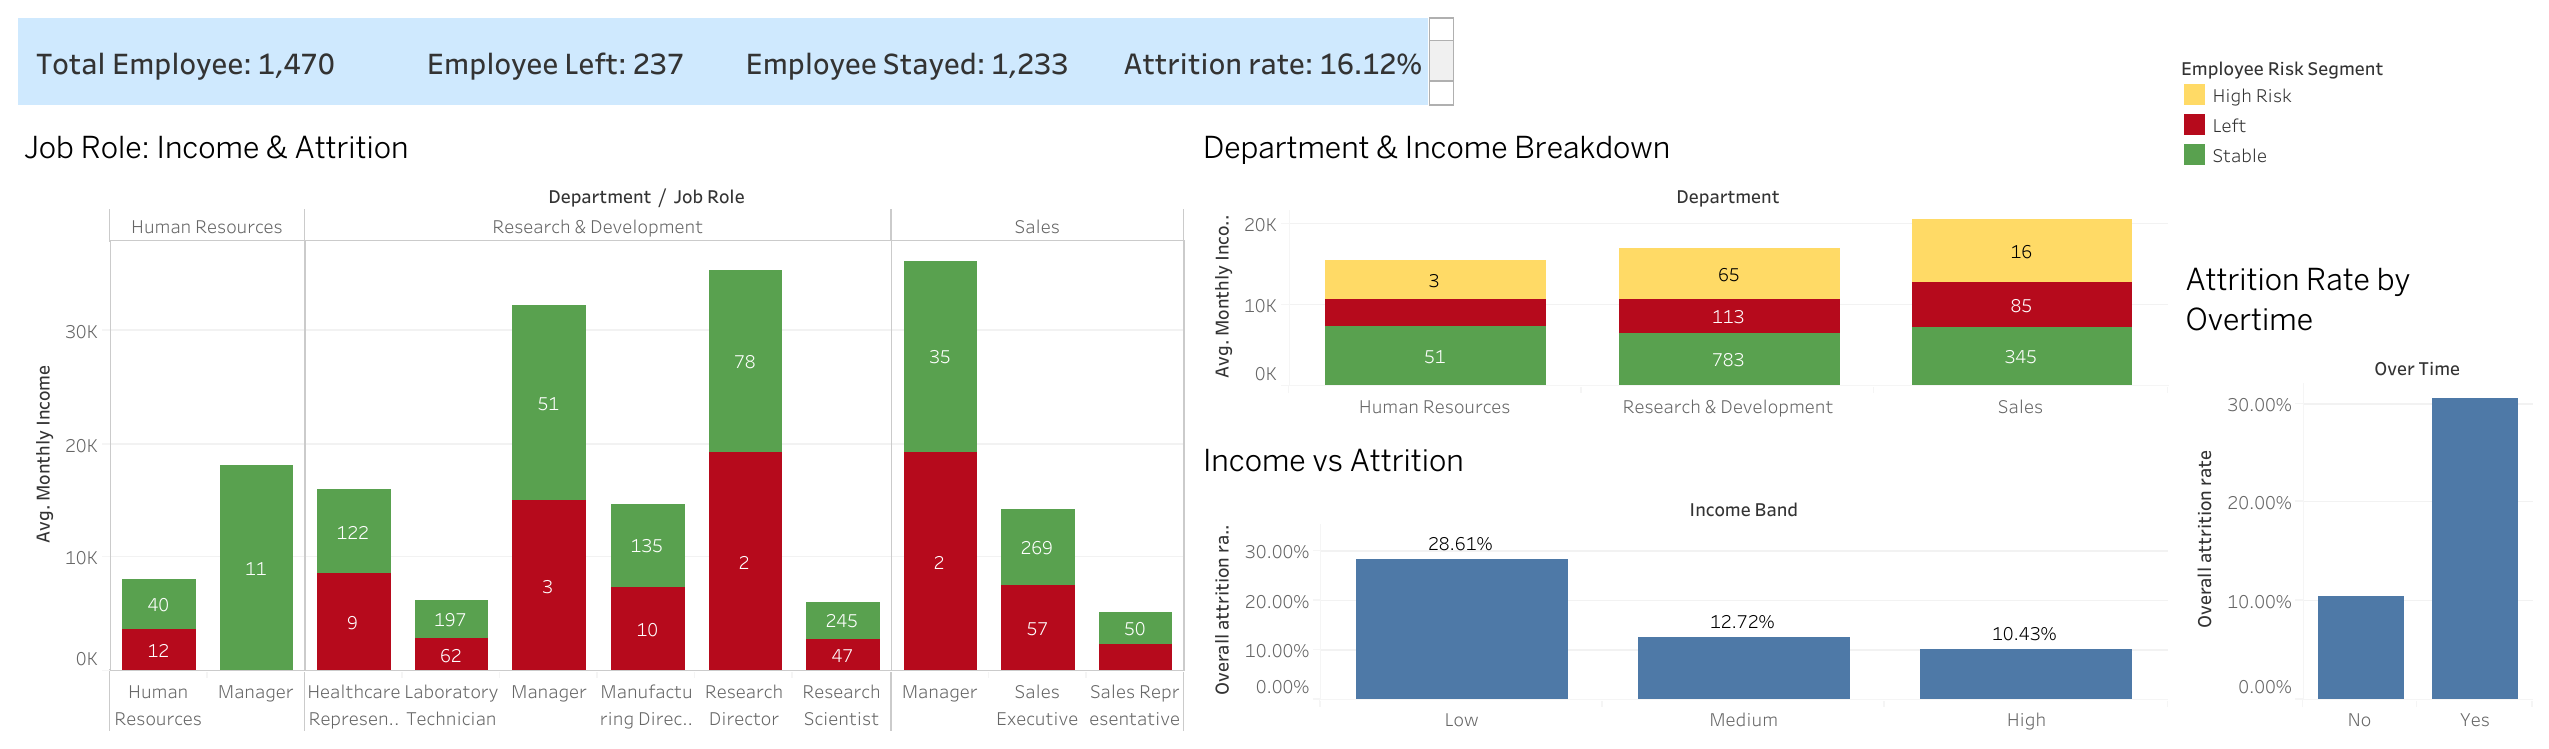

The page's visual inventory and layout, read from the dashboard file:
{"tool":"tableau","page":{"name":"Dashboard 1","canvas":[1000,1000],"units":"permille","ordinal":0},"visuals":[{"type":"worksheet","title":"Sheet 1","mark":"Automatic","box":[4.7,9.9,847.6,134.2]},{"type":"legend","title":"Sheet 3","param":"[federated.12w6y7904hxqo2111rh3x1llxkud].[usr:Calculation_0309833972924423:qk]","box":[852.4,9.9,142.9,33.5]},{"type":"legend","title":"Sheet 2","param":"[federated.12w6y7904hxqo2111rh3x1llxkud].[none:Calculation_0309833973989384:nk]","box":[852.4,43.4,142.9,135.1]},{"type":"worksheet","title":"Sheet 4","mark":"Automatic","rows":["MonthlyIncome"],"cols":["Department","JobRole"],"box":[4.7,144.1,462.3,846]},{"type":"worksheet","title":"Sheet 2","mark":"Bar","rows":["MonthlyIncome"],"cols":["Department"],"box":[467.1,144.1,385.3,423.4]},{"type":"worksheet","title":"Sheet 3","mark":"Automatic","rows":["Calculation_0309833972924423"],"cols":["OverTime"],"box":[852.4,320.9,142.9,669.2]},{"type":"worksheet","title":"Sheet 5","mark":"Automatic","rows":["Calculation_0309833972924423"],"cols":["Calculation_0951124644204544"],"box":[467.1,567.5,385.3,422.6]}]}

Visuals, with their boxes on the dashboard's canvas, which has no fixed pixel size, in thousandths of its width and height (x1, y1, x2, y2). These are canvas units, not pixel positions in the 2549x749 screenshot, which may show the page scaled, cropped or inside an application window:
"Sheet 1" worksheet: [x1=5, y1=10, x2=852, y2=144]
"Sheet 3" legend: [x1=852, y1=10, x2=995, y2=43]
"Sheet 2" legend: [x1=852, y1=43, x2=995, y2=178]
"Sheet 4" worksheet: [x1=5, y1=144, x2=467, y2=990]
"Sheet 2" worksheet (Bar marks): [x1=467, y1=144, x2=852, y2=568]
"Sheet 3" worksheet: [x1=852, y1=321, x2=995, y2=990]
"Sheet 5" worksheet: [x1=467, y1=568, x2=852, y2=990]
